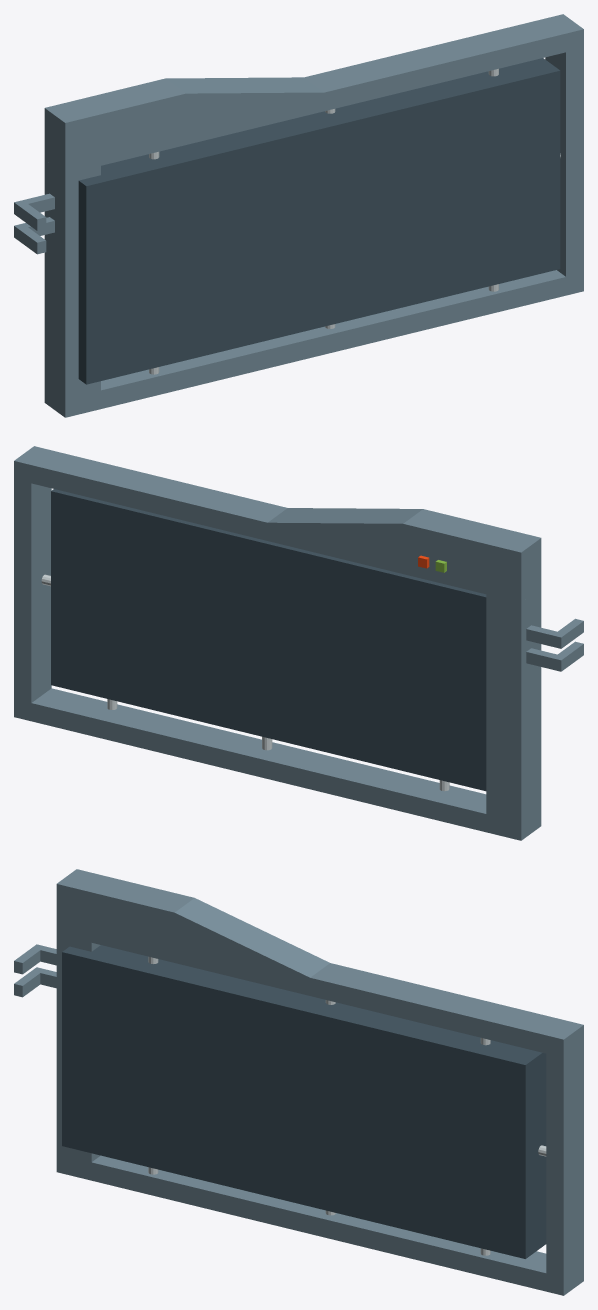
File: Top Display.glb
3 views of the same model, one above another, from view 1: azimuth 30°, elevation 25°; view 2: azimuth 150°, elevation 25°; view 3: azimuth 330°, elevation 25° (orthographic). The views are drawn at different scales.
Parts seen in each view (by area): view 1: group1761600552, group1079220906, group436927795, group1780625884, group805076153; view 2: group1761600552, group1079220906, group436927795, group1780625884, group805076153; view 3: group1761600552, group1079220906, group436927795, group805076153, group1780625884.
Boxes of the visible parts, x1,y1,x2,y2 form: group1761600552: (78, 58, 560, 384); group1079220906: (44, 14, 583, 174); group436927795: (44, 270, 583, 417); group1780625884: (14, 160, 100, 398); group805076153: (545, 48, 583, 276); group1761600552: (51, 489, 486, 791); group1079220906: (14, 446, 541, 602); group436927795: (14, 688, 541, 840); group1780625884: (486, 588, 583, 822); group805076153: (14, 479, 51, 702); group1761600552: (62, 945, 546, 1258); group1079220906: (56, 869, 583, 1057); group436927795: (56, 1154, 583, 1295); group805076153: (546, 1043, 583, 1277); group1780625884: (14, 934, 100, 1162).
Size of the model in its own units: 1.24 by 0.63 by 0.12.
